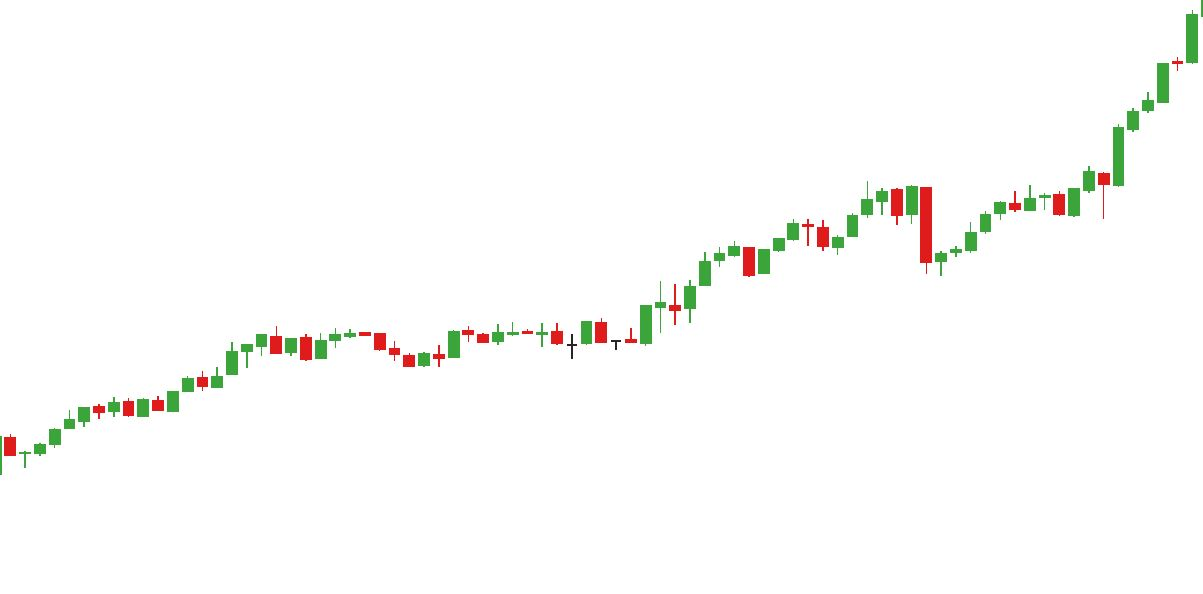buy: (832, 203, 962, 283)
